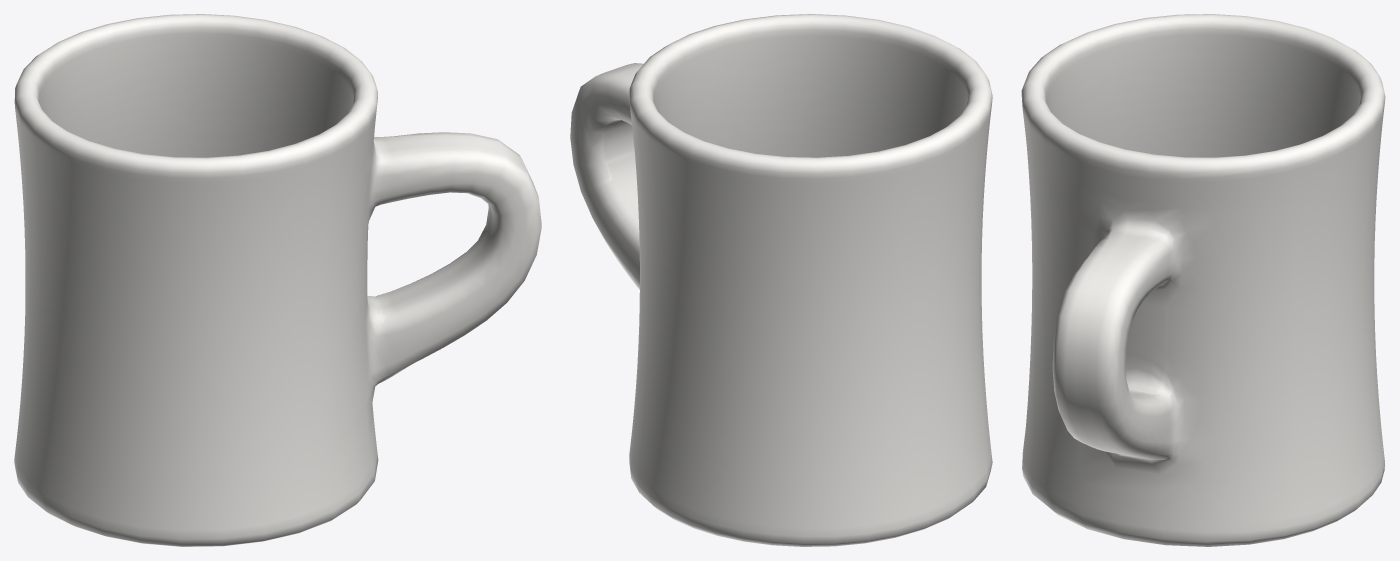
File: CoffeeMug.glb
3 views of the same model, side by side, from view 1: azimuth 30°, elevation 25°; view 2: azimuth 150°, elevation 25°; view 3: azimuth 270°, elevation 25° (orthographic).
Visible parts, largest first — view 1: coffee_mug_target; view 2: coffee_mug_target; view 3: coffee_mug_target.
Boxes of the visible parts, left/top/right/bottom form: coffee_mug_target: left=14, top=14, right=541, bottom=546; coffee_mug_target: left=570, top=14, right=992, bottom=546; coffee_mug_target: left=1021, top=14, right=1385, bottom=546.
Size of the model in its own units: 0.1366 by 0.1132 by 0.0966.
Materials: 1 (1 with a texture image).
